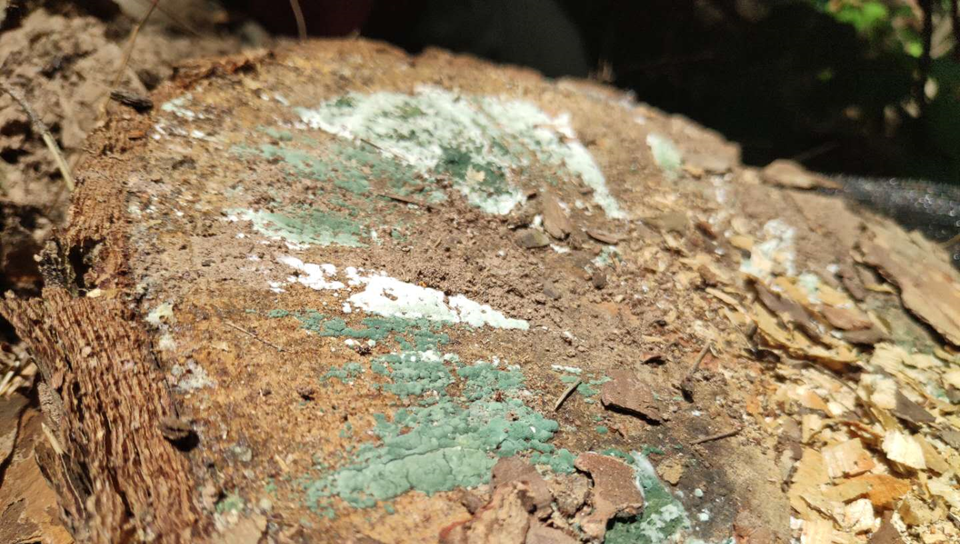Trichoderma: (307, 86, 598, 214), (347, 390, 554, 503), (349, 271, 492, 364)
